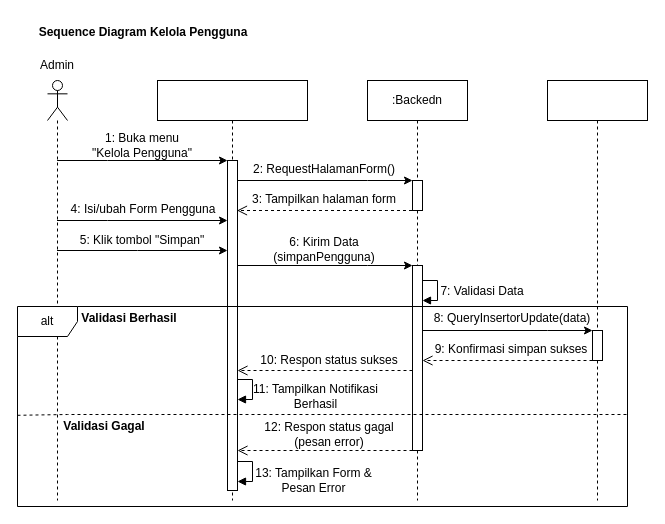
The diagram is 665 pixels wide and 524 high, and some of its shapes have lost their labels. Here are the shapes that lost their labels. From the top down, the box of each, then its label:
(156, 80, 308, 500): :HalamanKelolaPengguna
(546, 80, 648, 500): :Database
